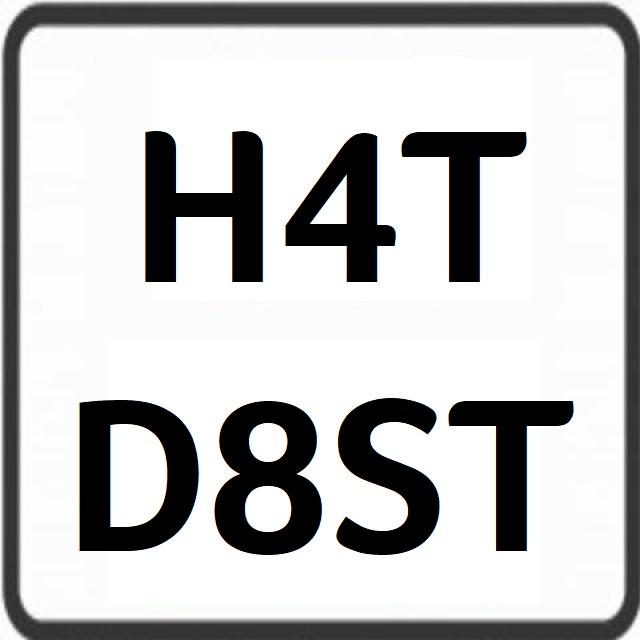4: (280, 120, 404, 287)
8: (209, 392, 323, 561)
D: (68, 388, 202, 558)
H: (136, 124, 270, 288)
S: (335, 393, 442, 558)
T: (400, 121, 534, 280), (450, 395, 576, 553)
